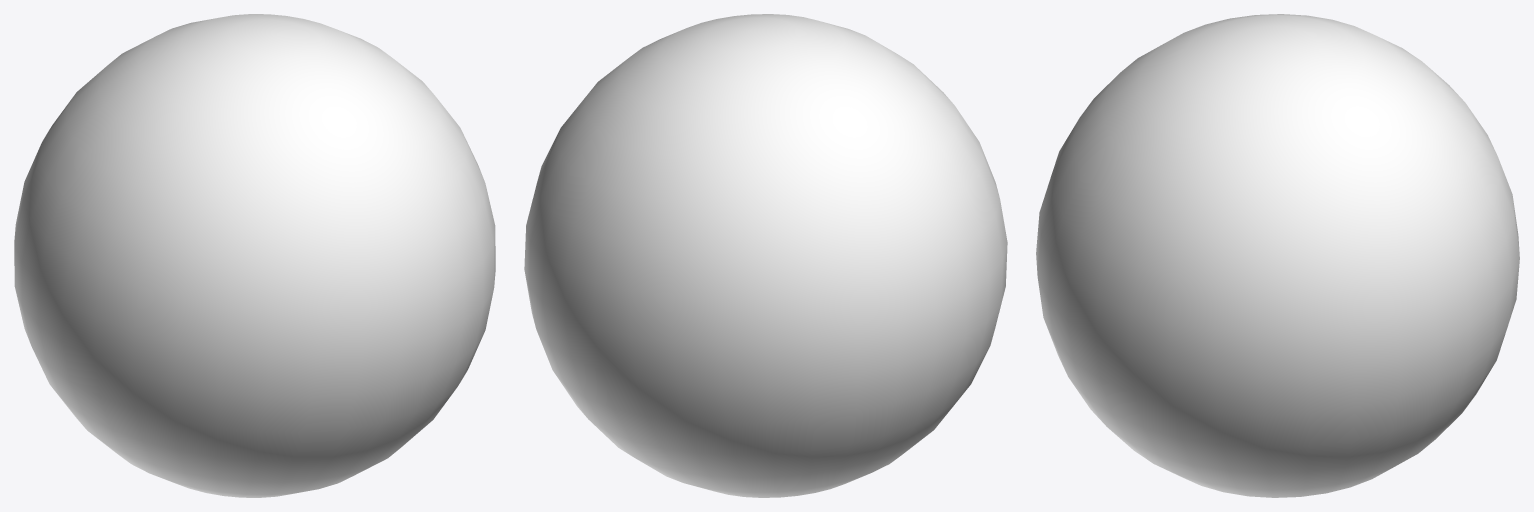
Rendered from Jupiter.gltf.
3 renders of one model, left to right at view 1: azimuth 30°, elevation 25°; view 2: azimuth 150°, elevation 25°; view 3: azimuth 270°, elevation 25°, orthographic.
Parts seen in each view (by area): view 1: Jupiter; view 2: Jupiter; view 3: Jupiter.
Part boxes in pixels (<box>): Jupiter: <box>14,14,495,497</box>; Jupiter: <box>524,14,1007,497</box>; Jupiter: <box>1036,14,1519,497</box>.
Size of the model in its own units: 23.15 by 23.2 by 23.23.
Materials: 1 (1 with a texture image).
